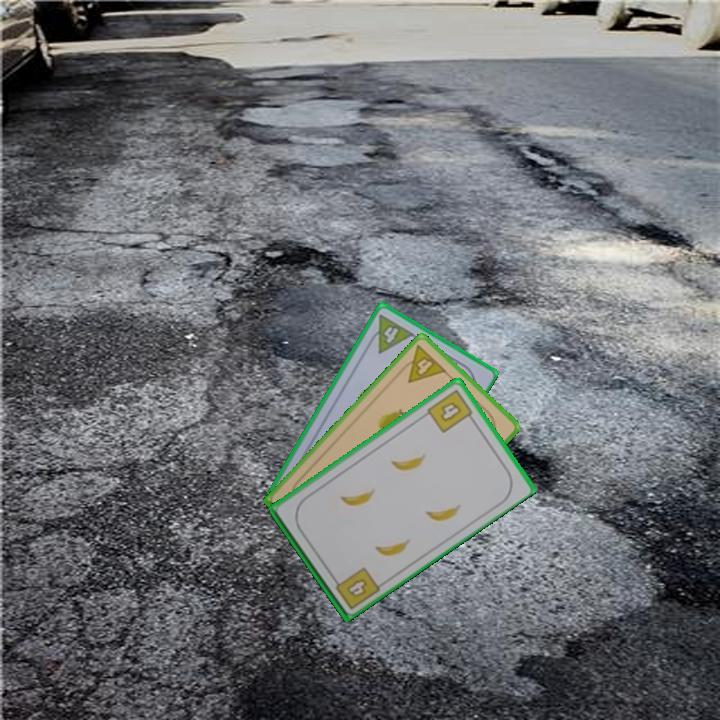4b: (423, 386, 477, 436), (328, 563, 382, 612)
4p: (395, 341, 449, 386), (363, 311, 416, 356)
